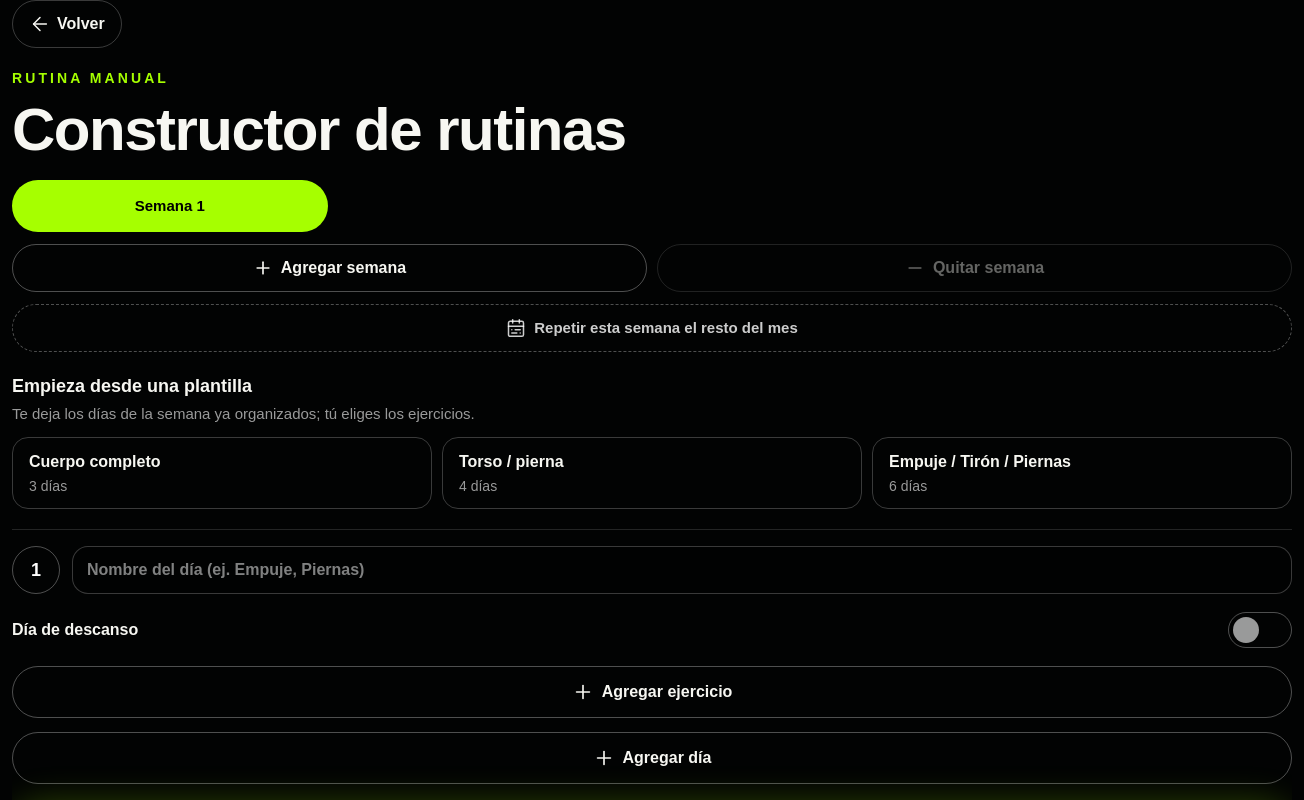
Test: RoutineBuilderWizard › toggling a day to rest disables the name field and fills in a name automatically
Click the switch named "Día de descanso". click: (1260, 630)
box: [1228,612,1292,648]
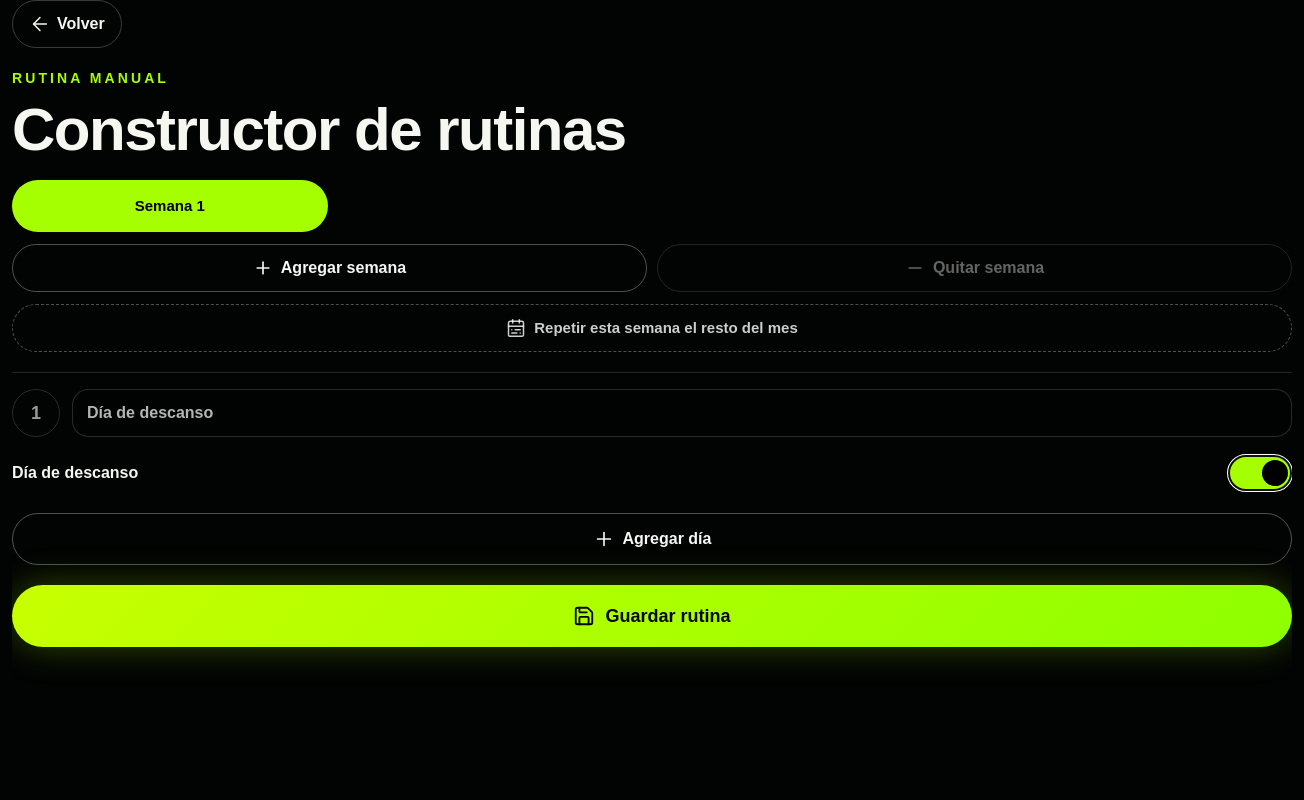
Result: the field named "Nombre del" is disabled at [72,389,1292,437]
Result: the field named "Nombre del" holds "Día de descanso" at [72,389,1292,437]
